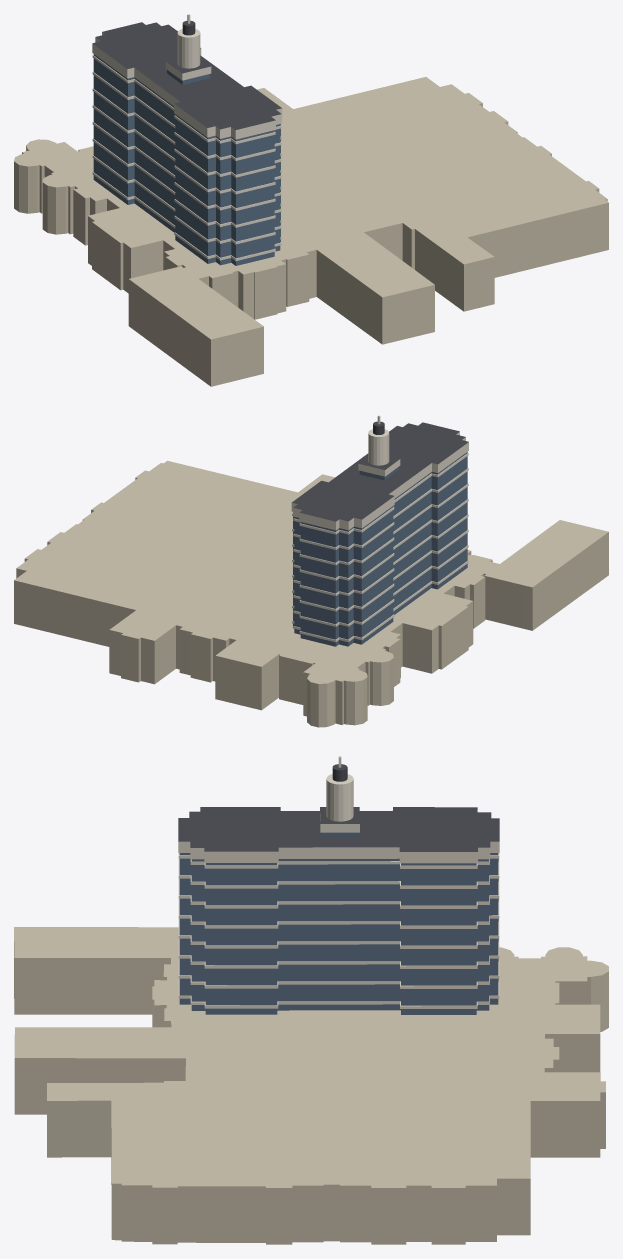
The model's file is grand_america_hotel.glb.
The picture shows the model from 3 angles, top to bottom: view 1: azimuth 30°, elevation 25°; view 2: azimuth 150°, elevation 25°; view 3: azimuth 270°, elevation 25°; orthographic projection. The views are drawn at different scales.
Parts seen in each view (by area): view 1: Grand_America_Hotel; view 2: Grand_America_Hotel; view 3: Grand_America_Hotel.
Part boxes in pixels (x1,y1,x2,y2): Grand_America_Hotel: (14,14,608,386); Grand_America_Hotel: (14,415,608,727); Grand_America_Hotel: (14,756,608,1244).
Bounding box in the file's own units: 196 × 103 × 189.
